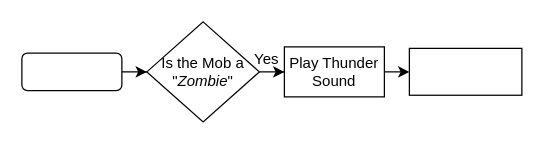
The diagram is 544 pixels wide and 144 high, and some of its shapes have lost their labels. The centre of each missing label's shape, as x and y in pixels:
"Mob Spawns" goes at (71,71).
"Send Message To Player" goes at (465,71).
